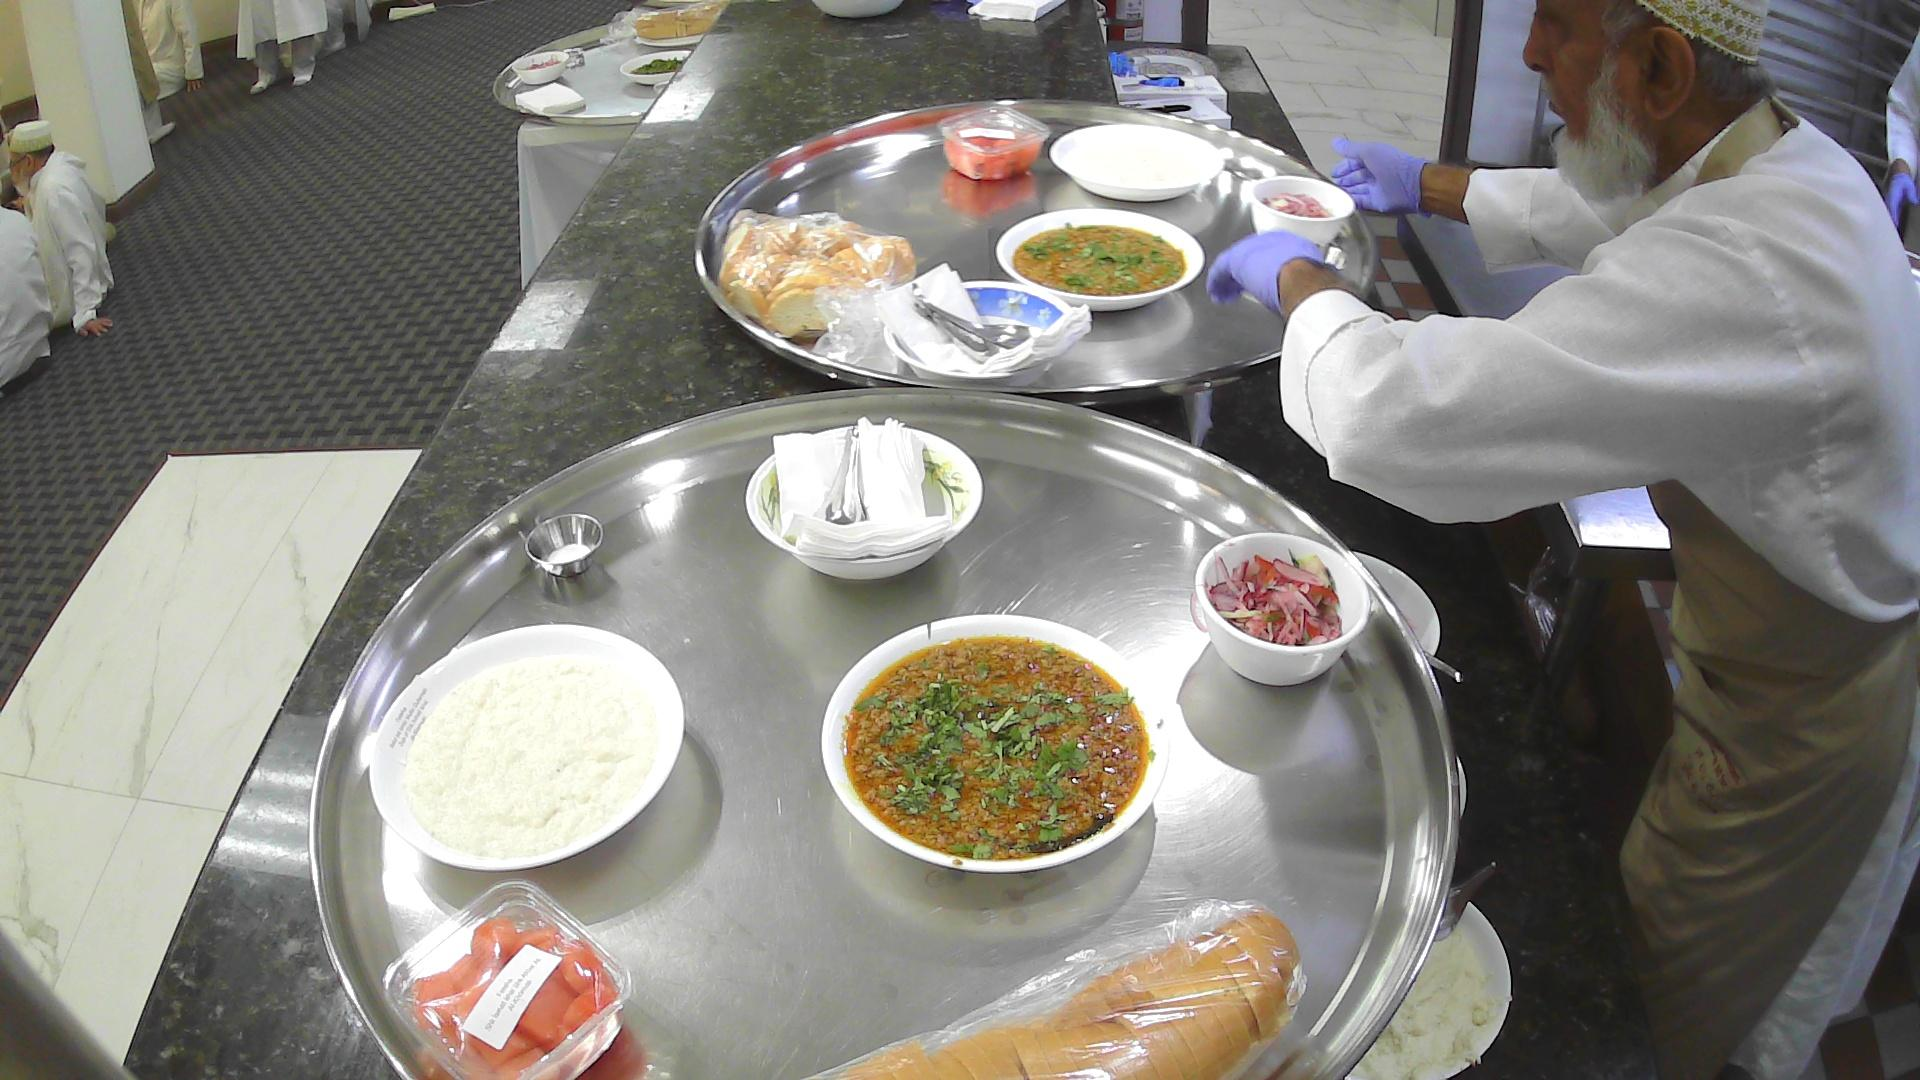thaal: (305, 385, 1462, 1080), (691, 94, 1381, 409), (492, 7, 727, 128)
